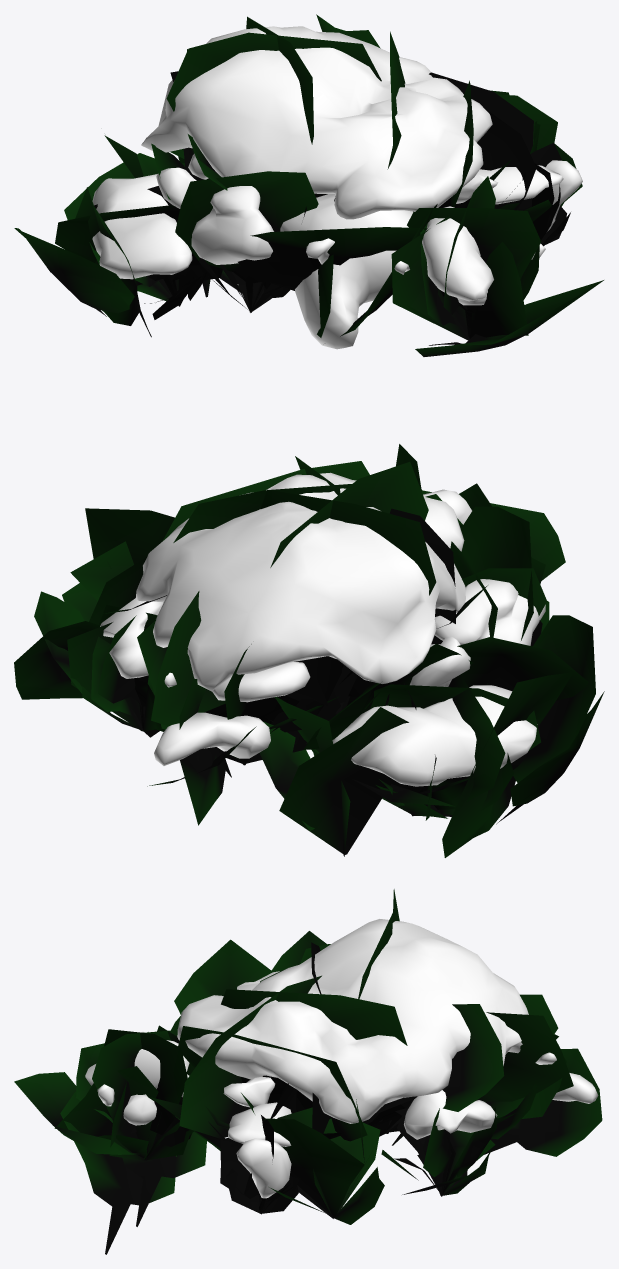
The model's file is SnowBushClumpARHE_LOD0.fbx.
3 views of the same model, one above another, from view 1: azimuth 30°, elevation 25°; view 2: azimuth 150°, elevation 25°; view 3: azimuth 270°, elevation 25° (orthographic). The views are drawn at different scales.
Parts seen in each view (by area): view 1: SnowBushClumpARHE_LOD0; view 2: SnowBushClumpARHE_LOD0; view 3: SnowBushClumpARHE_LOD0.
Part boxes in pixels (x1,y1,x2,y2): SnowBushClumpARHE_LOD0: (14,14,603,356); SnowBushClumpARHE_LOD0: (14,444,604,857); SnowBushClumpARHE_LOD0: (14,889,602,1254).
Size of the model in its own units: 3.85 by 2.24 by 4.3.
